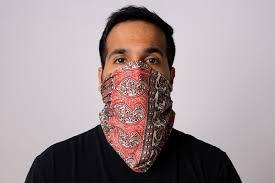scarf-kerchief: (97, 56, 178, 176)
